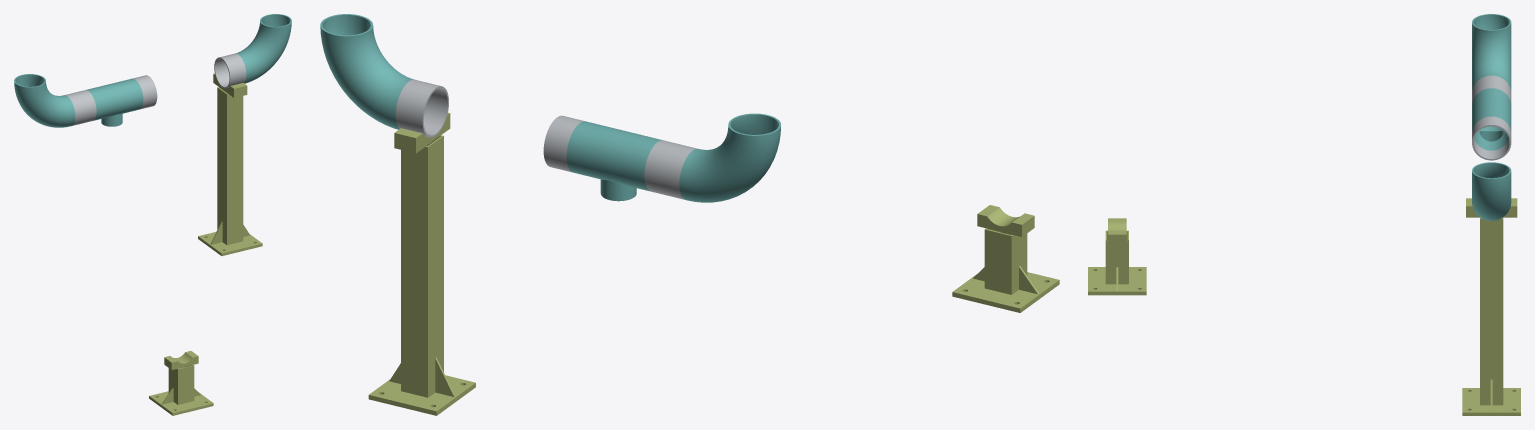
Rendered from step_70.glb.
3 views of the same model, side by side, from view 1: azimuth 30°, elevation 25°; view 2: azimuth 150°, elevation 25°; view 3: azimuth 270°, elevation 25° (orthographic). The views are drawn at different scales.
Parts seen in each view (by area): view 1: part__pipe support SP-101, tall, part__6" elbow bottom left, part__pipe support SP-101, short, part__6" elbow bottom right, part__6" x 4" reducing tee, part__6" pipe, ball valve to the right bend, 99 long, part__6" pipe, tee to the left bend, 128 long, part__6" pipe, tee to the ball valve, 85 long; view 2: part__pipe support SP-101, tall, part__6" elbow bottom left, part__pipe support SP-101, short, part__6" elbow bottom right, part__6" x 4" reducing tee, part__6" pipe, ball valve to the right bend, 99 long, part__6" pipe, tee to the left bend, 128 long, part__6" pipe, tee to the ball valve, 85 long; view 3: part__pipe support SP-101, tall, part__pipe support SP-101, short, part__6" elbow bottom left, part__6" elbow bottom right, part__6" x 4" reducing tee, part__6" pipe, tee to the ball valve, 85 long, part__6" pipe, tee to the left bend, 128 long.
Part boxes in pixels (<box>): part__pipe support SP-101, tall: <box>198,73,262,255</box>; part__6" elbow bottom left: <box>14,74,75,127</box>; part__pipe support SP-101, short: <box>149,351,213,415</box>; part__6" elbow bottom right: <box>235,14,291,83</box>; part__6" x 4" reducing tee: <box>86,78,143,126</box>; part__6" pipe, ball valve to the right bend, 99 long: <box>214,53,246,88</box>; part__6" pipe, tee to the left bend, 128 long: <box>64,90,96,125</box>; part__6" pipe, tee to the ball valve, 85 long: <box>133,75,157,109</box>; part__pipe support SP-101, tall: <box>368,112,475,415</box>; part__6" elbow bottom left: <box>679,113,780,202</box>; part__pipe support SP-101, short: <box>952,205,1059,312</box>; part__6" elbow bottom right: <box>320,14,413,129</box>; part__6" x 4" reducing tee: <box>566,121,662,201</box>; part__6" pipe, ball valve to the right bend, 99 long: <box>395,79,448,137</box>; part__6" pipe, tee to the left bend, 128 long: <box>644,140,696,199</box>; part__6" pipe, tee to the ball valve, 85 long: <box>543,115,584,172</box>; part__pipe support SP-101, tall: <box>1462,198,1520,415</box>; part__pipe support SP-101, short: <box>1088,218,1146,295</box>; part__6" elbow bottom left: <box>1472,14,1511,90</box>; part__6" elbow bottom right: <box>1472,162,1511,220</box>; part__6" x 4" reducing tee: <box>1472,88,1511,150</box>; part__6" pipe, tee to the ball valve, 85 long: <box>1472,116,1511,160</box>; part__6" pipe, tee to the left bend, 128 long: <box>1472,75,1511,103</box>.
Bounding box in the file's own units: 1709 × 1229 × 1850.
